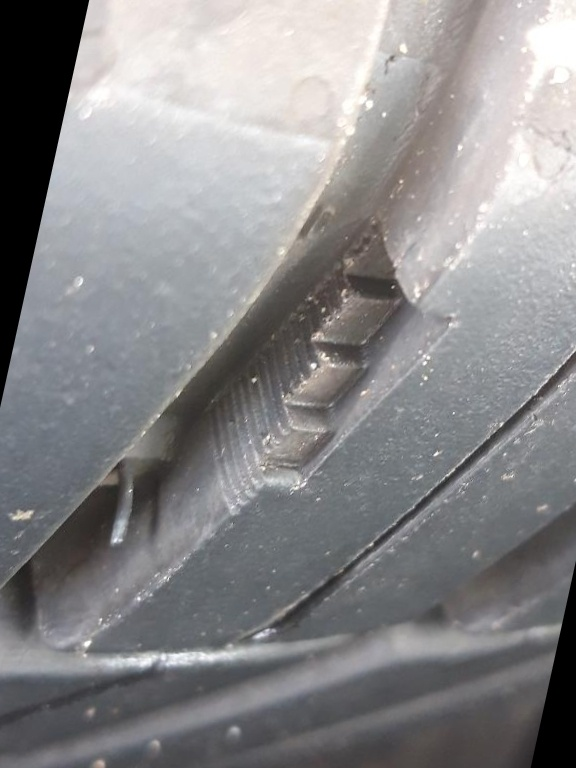temoin:90: (179, 203, 487, 539)
